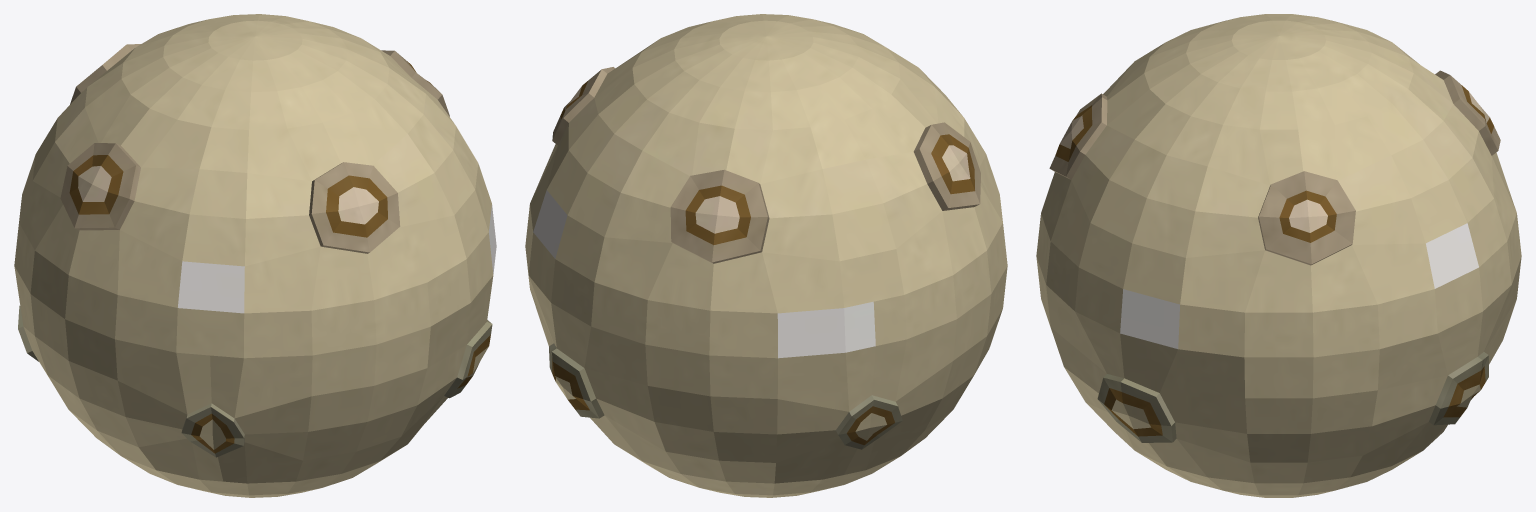
File: bolaMalaStarWarsconAnimacion2.fbx
The picture shows the model from 3 angles, left to right: view 1: azimuth 30°, elevation 25°; view 2: azimuth 150°, elevation 25°; view 3: azimuth 270°, elevation 25°; orthographic projection.
Visible parts, largest first — view 1: Sphere; view 2: Sphere; view 3: Sphere.
Part boxes in pixels (<box>): Sphere: <box>14,14,496,497</box>; Sphere: <box>525,14,1007,497</box>; Sphere: <box>1036,14,1521,497</box>.
Bounding box in the file's own units: 198 × 200 × 200.
Materials: 1 (1 with a texture image).
